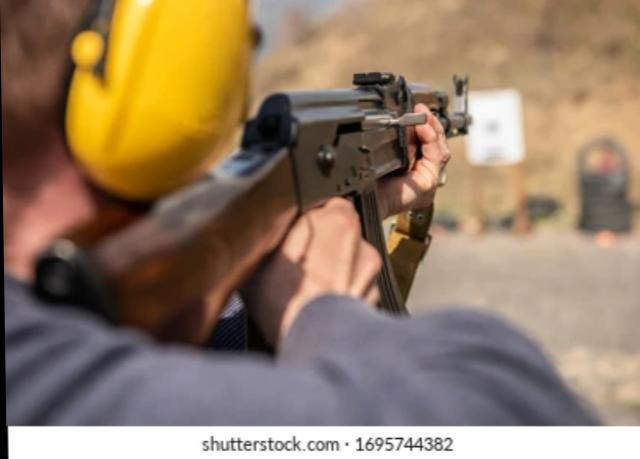other: (0, 14, 405, 407)
